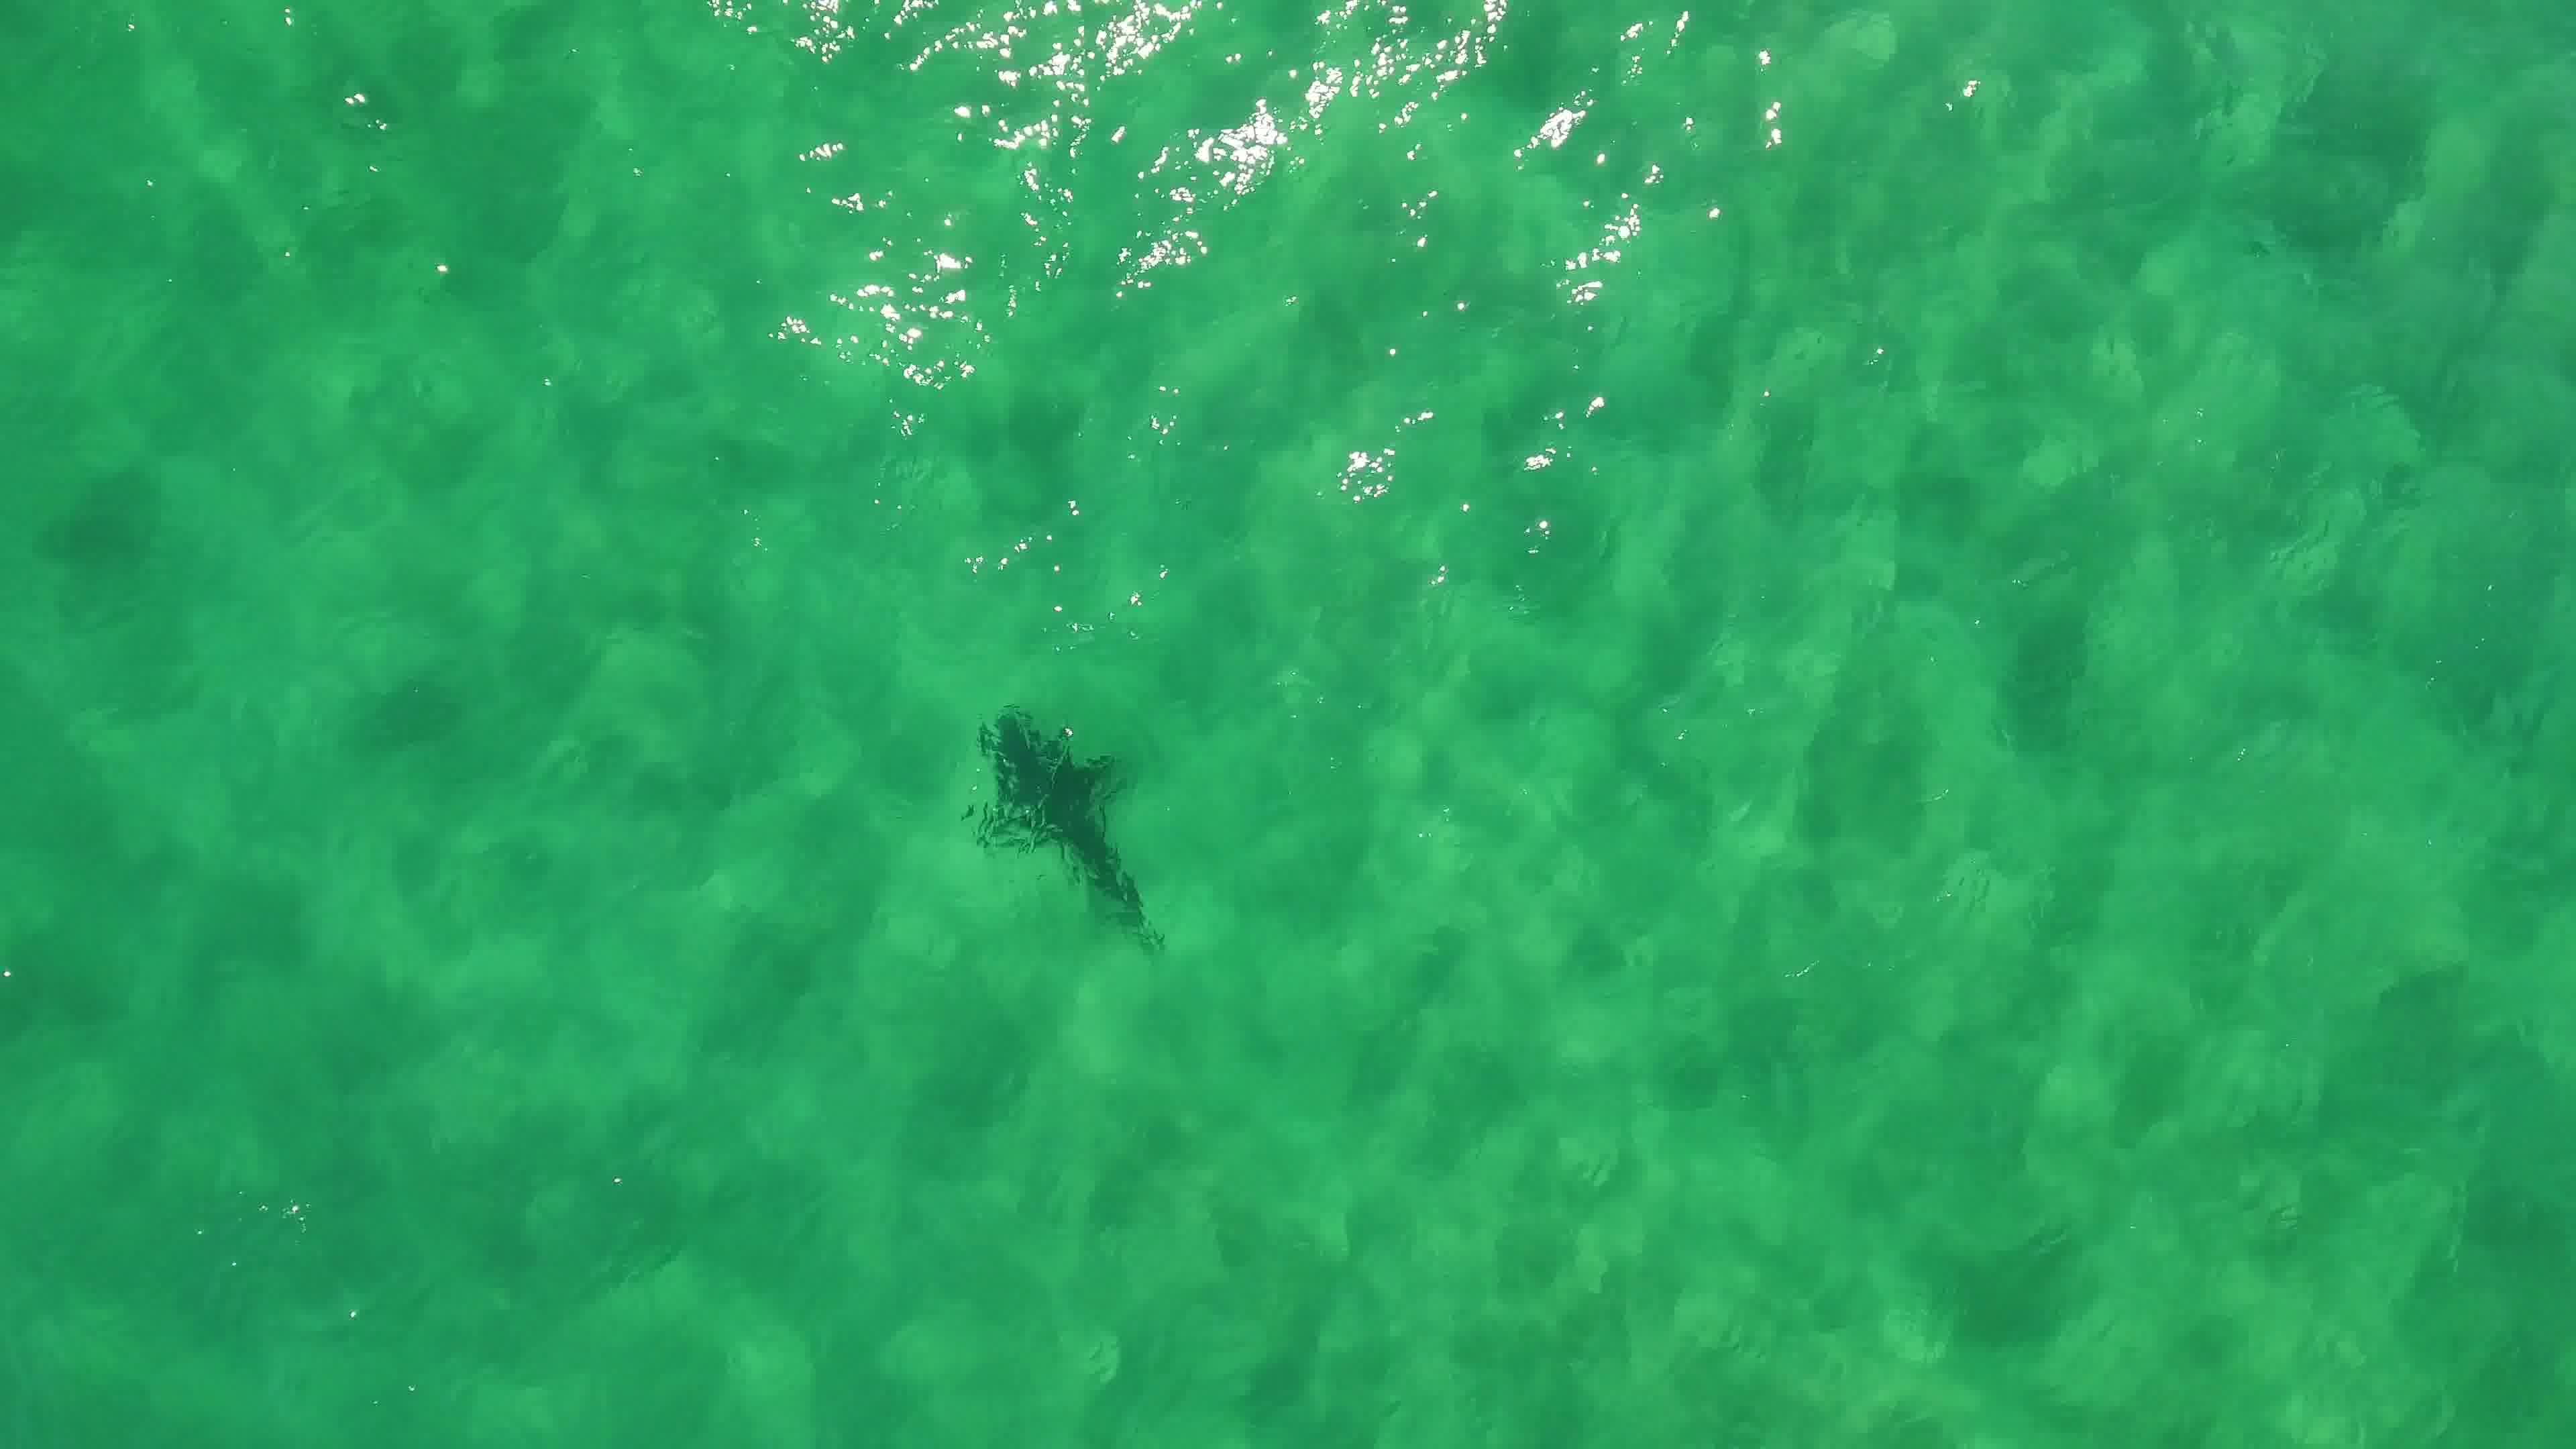shark: (970, 699, 1177, 961)
